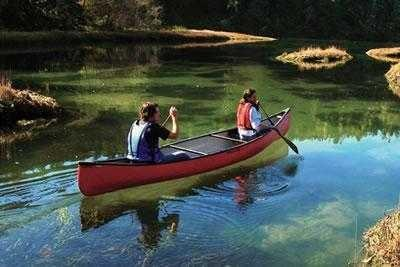kayak: (77, 110, 292, 197)
